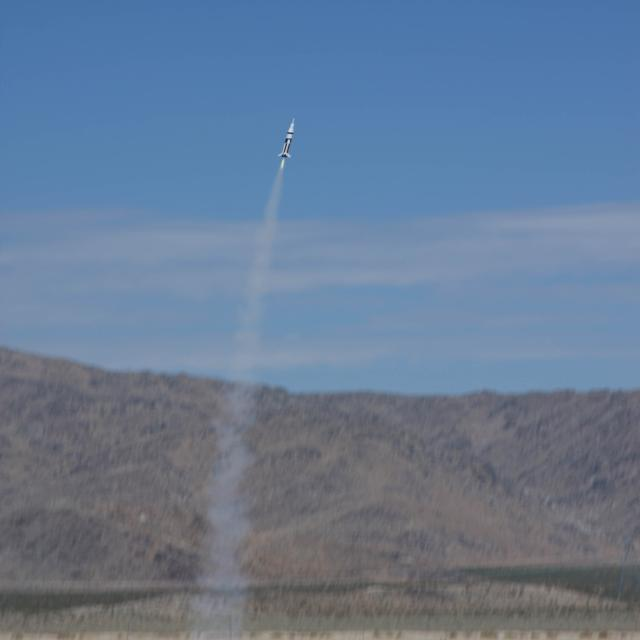Rocket: (278, 117, 296, 158)
